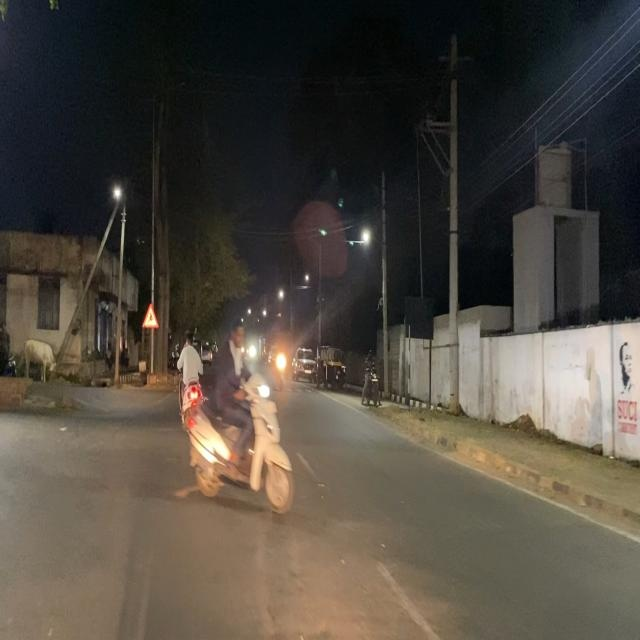bien_nguy_hiem: (142, 302, 159, 329)
